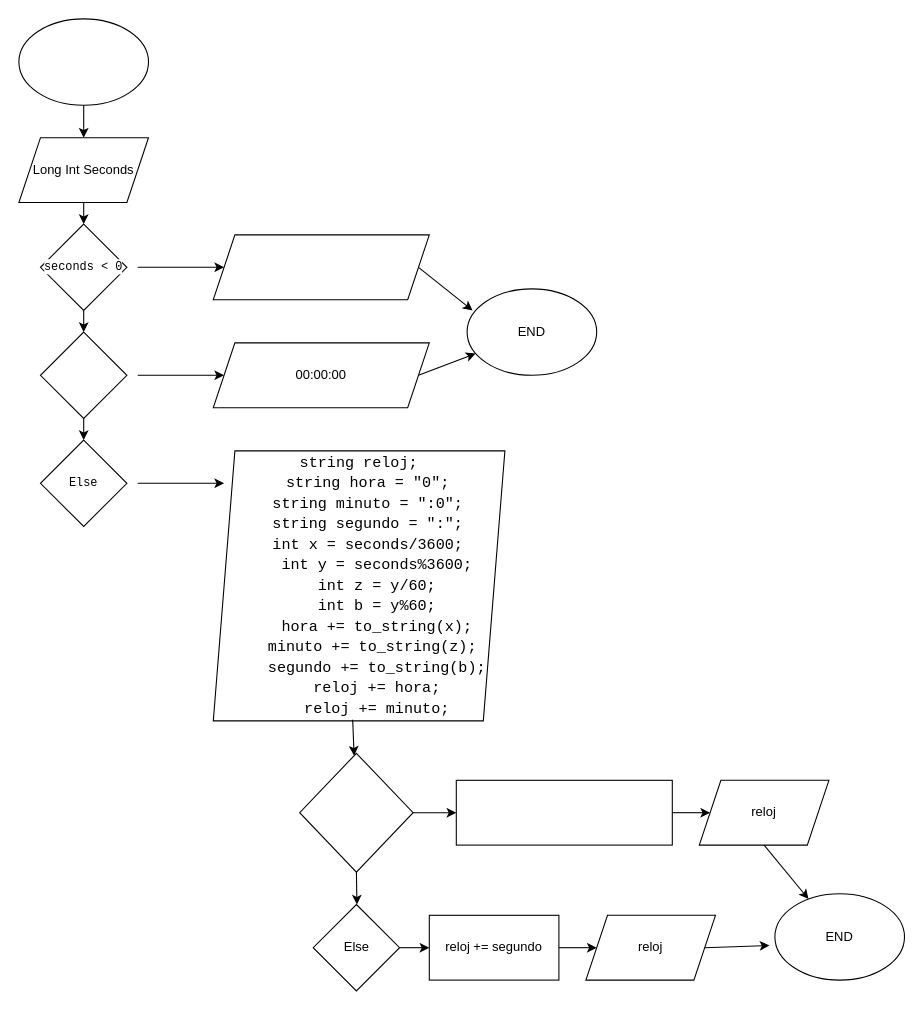
The diagram is 923 pixels wide and 1010 high, and some of its shapes have lost their labels. The shapes that lost their labels are listed below. From the top down, each one's centre as x and y in pixels, then its label:
point (83, 61): START
point (320, 267): Error: Input seconds cannot be negative.
point (83, 374): seconds == 0
point (356, 812): Segundo.size == 2
point (563, 812): segundo.resize(3, '0') reloj += segundo
